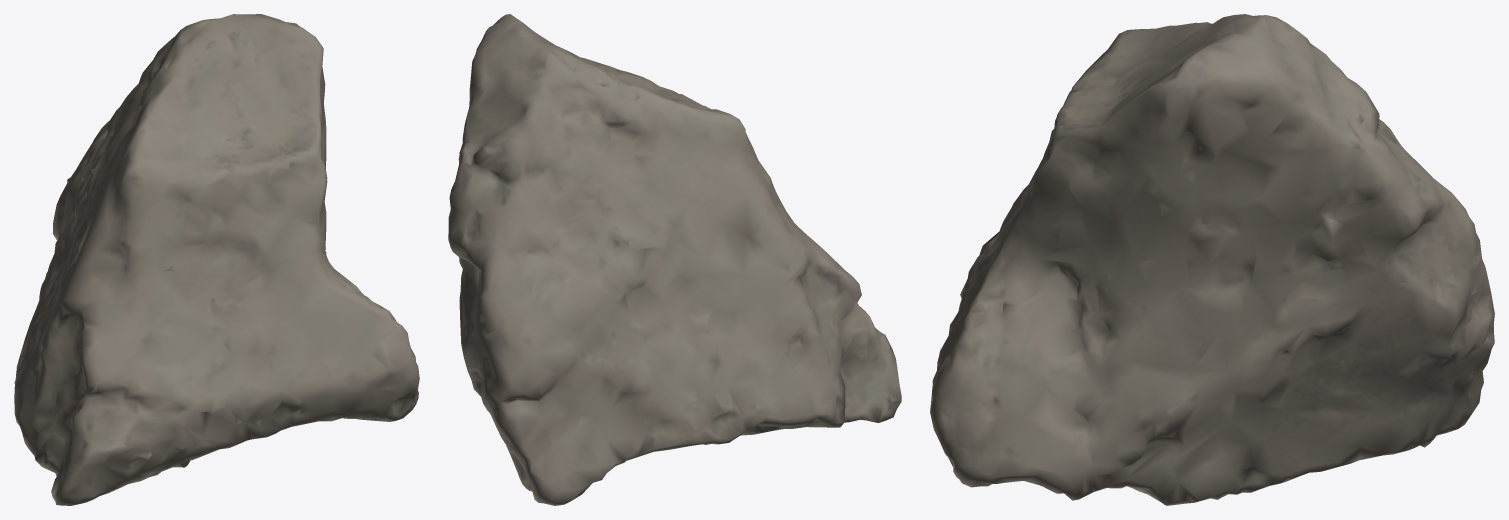
The model's file is moon_rock_4.glb.
3 views of the same model, side by side, from view 1: azimuth 30°, elevation 25°; view 2: azimuth 150°, elevation 25°; view 3: azimuth 270°, elevation 25° (orthographic). The views are drawn at different scales.
Visible parts, largest first — view 1: moon_rock_05_LOD0; view 2: moon_rock_05_LOD0; view 3: moon_rock_05_LOD0.
Part boxes in pixels (x1=…): moon_rock_05_LOD0: x1=14, y1=14, x2=419, y2=505; moon_rock_05_LOD0: x1=448, y1=14, x2=901, y2=505; moon_rock_05_LOD0: x1=930, y1=14, x2=1494, y2=505.
Bounding box in the file's own units: 0.0717 × 0.0734 × 0.0811.
1 material, 1 textured.
